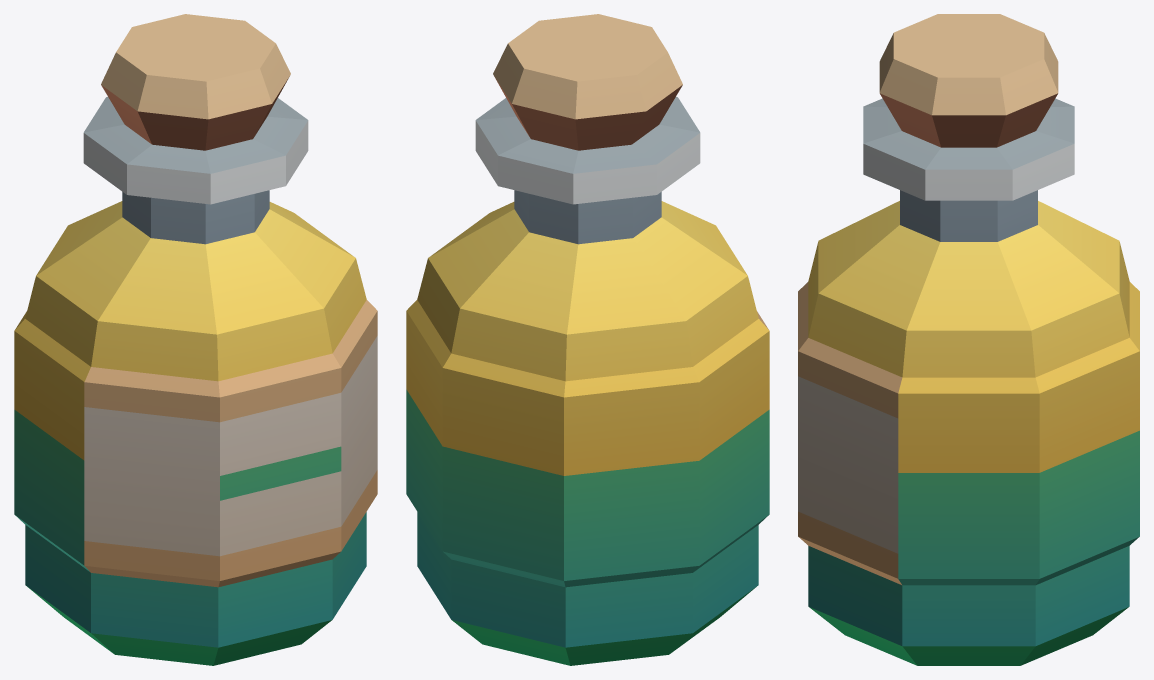
Rendered from potion_medium_lime.glb.
3 renders of one model, left to right at view 1: azimuth 30°, elevation 25°; view 2: azimuth 150°, elevation 25°; view 3: azimuth 270°, elevation 25°, orthographic.
Visible parts, largest first — view 1: model; view 2: model; view 3: model.
Boxes of the visible parts, <box> form: model: <box>14,14,377,665</box>; model: <box>406,14,769,665</box>; model: <box>798,14,1139,665</box>.
Bounding box in the file's own units: 0.48 × 0.88 × 0.48.
1 material, 1 textured.
